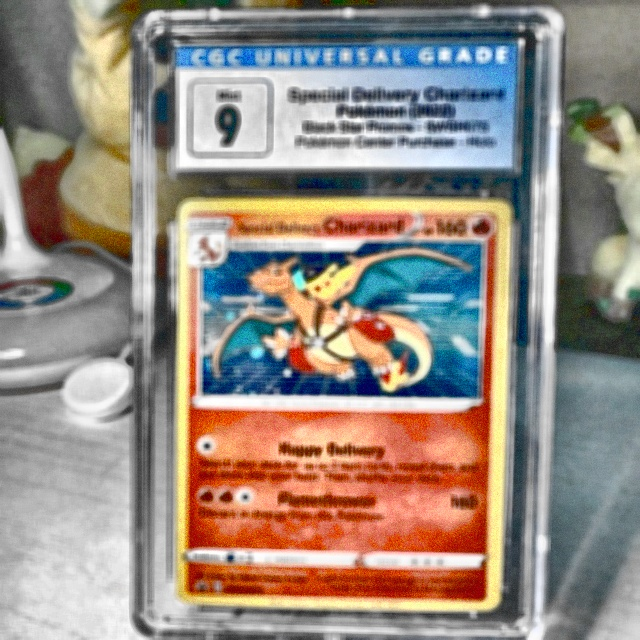card: (174, 196, 514, 613)
